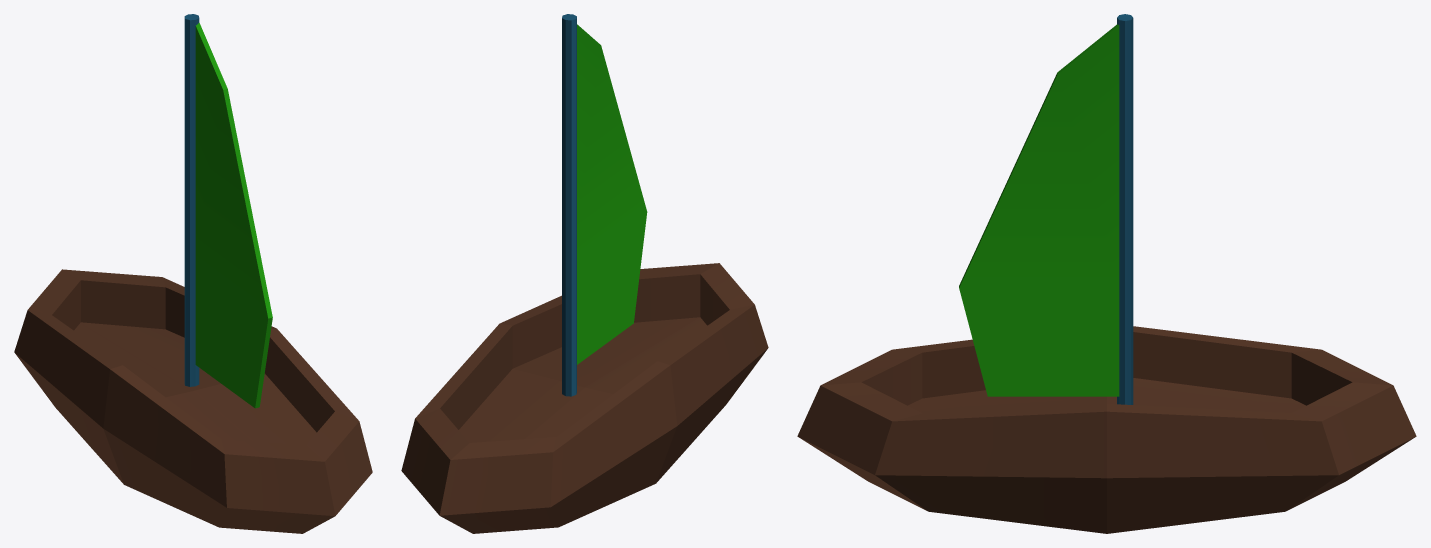
Rendered from boat 3.fbx.
The picture shows the model from 3 angles, left to right: view 1: azimuth 30°, elevation 25°; view 2: azimuth 150°, elevation 25°; view 3: azimuth 270°, elevation 25°; orthographic projection. The views are drawn at different scales.
Visible parts, largest first — view 1: Plane.007; view 2: Plane.007; view 3: Plane.007.
Boxes of the visible parts, bbox=[...] form: Plane.007: bbox=[14, 14, 372, 533]; Plane.007: bbox=[401, 14, 768, 533]; Plane.007: bbox=[797, 14, 1416, 533].
Bounding box in the file's own units: 6.09 × 14.28 × 16.6.
Materials: 1 (1 with a texture image).
